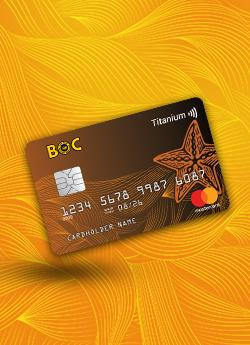Credit_card: (27, 98, 228, 253)
